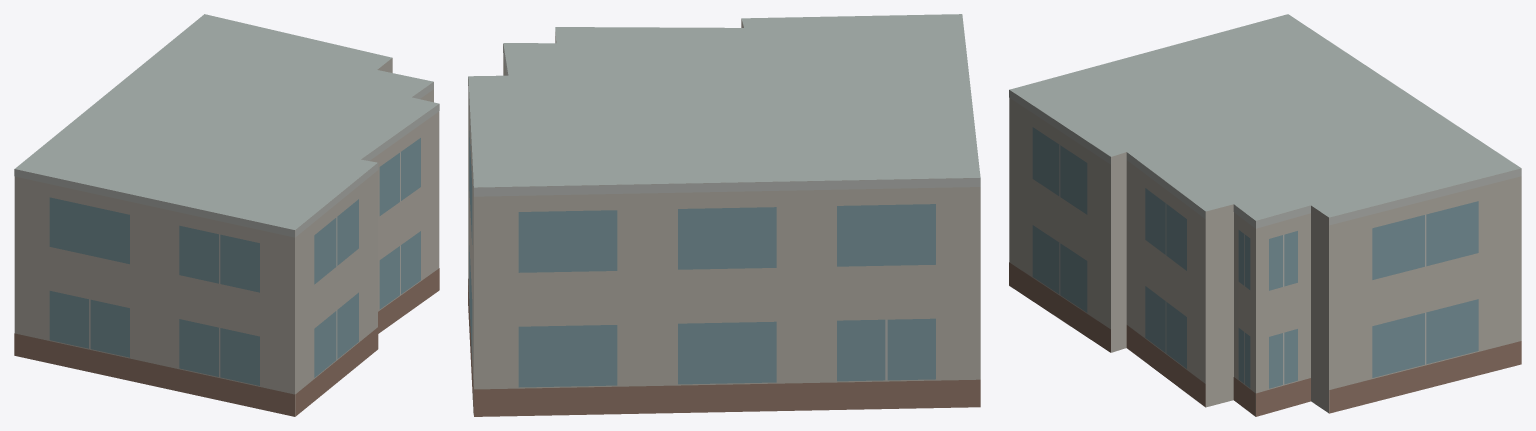
The model's file is survey-upis-32659994.glb.
The picture shows the model from 3 angles, left to right: view 1: azimuth 30°, elevation 25°; view 2: azimuth 150°, elevation 25°; view 3: azimuth 270°, elevation 25°; orthographic projection. The views are drawn at different scales.
Parts seen in each view (by area): view 1: survey-upis-32659994.tmp; view 2: survey-upis-32659994.tmp; view 3: survey-upis-32659994.tmp.
Part boxes in pixels (x1,y1,x2,y2): survey-upis-32659994.tmp: (14, 14, 439, 416); survey-upis-32659994.tmp: (468, 14, 980, 416); survey-upis-32659994.tmp: (1009, 14, 1521, 416).
Size of the model in its own units: 13.82 by 6.1 by 14.47.
